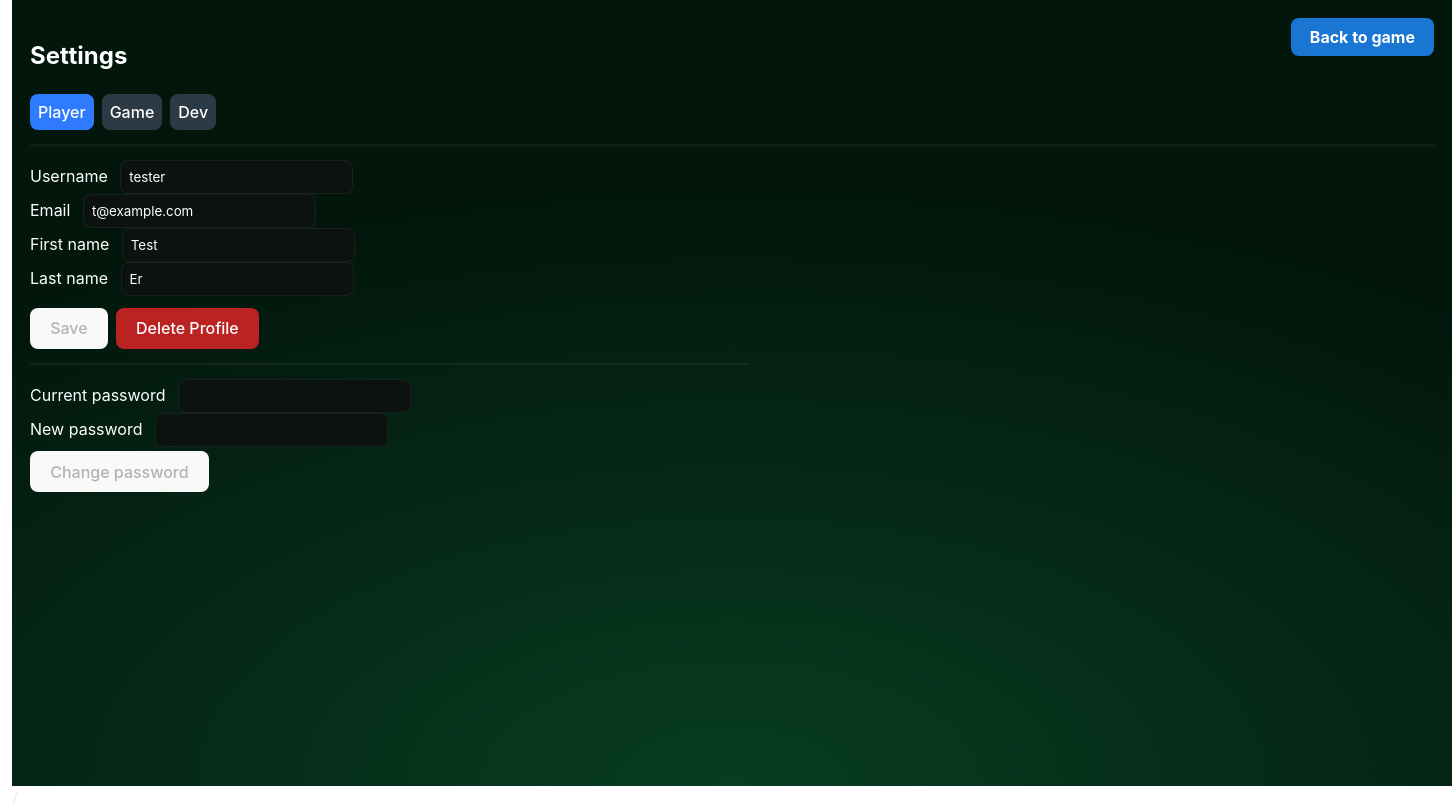
Settings › shows a failed save inline, with a fallback message
Replace the text in the field named "firstName" with "Changed" at (238, 245), box [122,228,355,262]
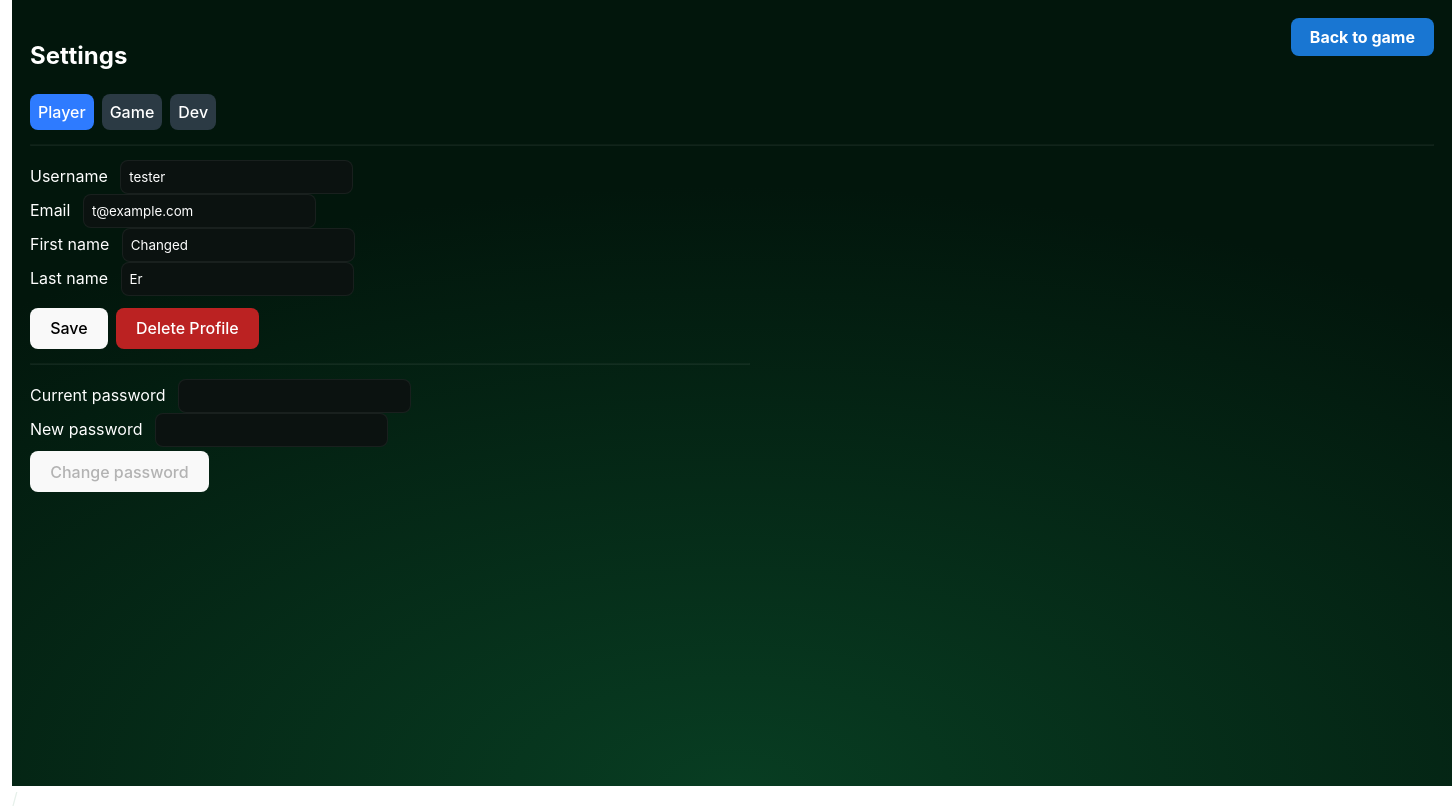
Click the button "Save" at (69, 328), box [30,308,108,349]
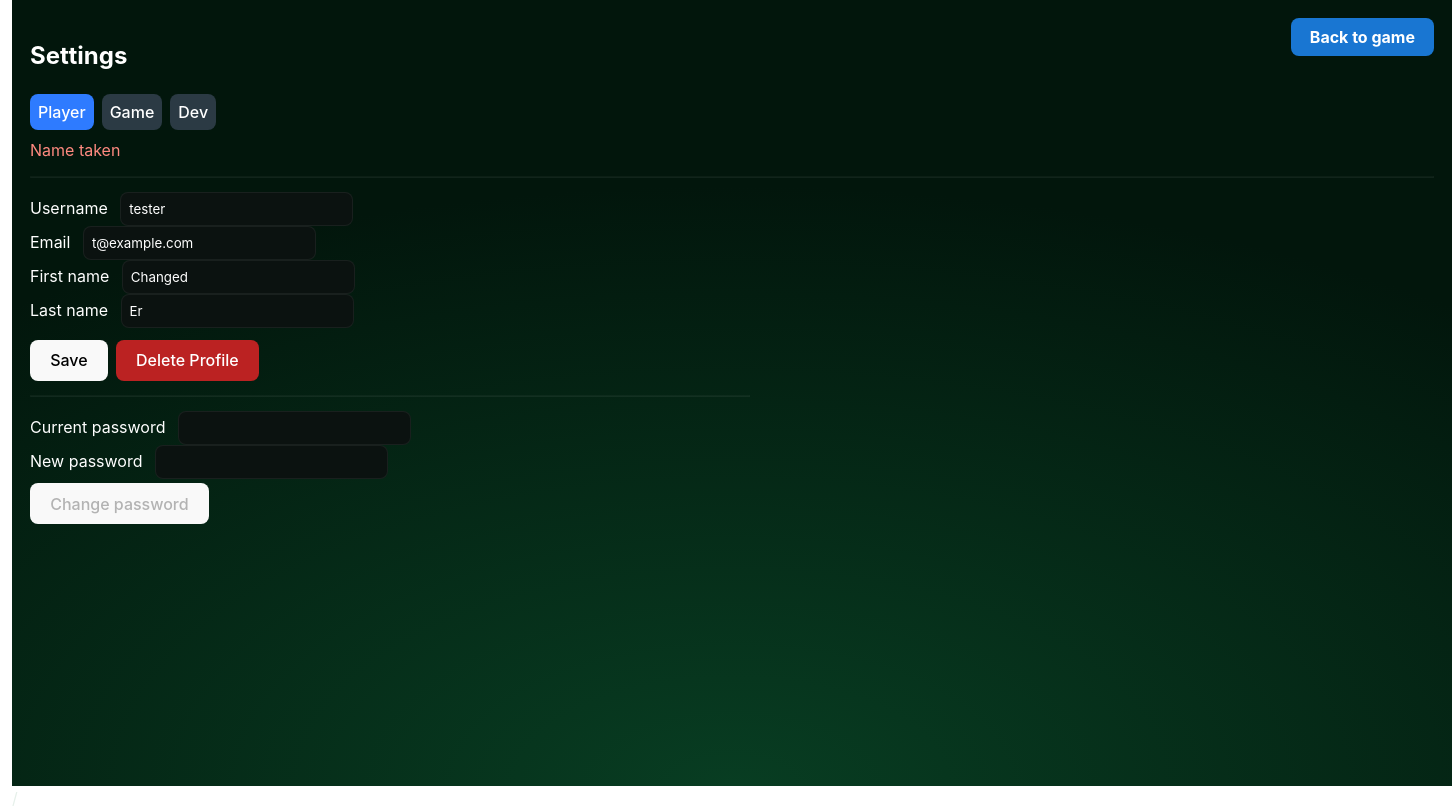
expect the message reads "Name taken": met, box [30,140,120,160]
Click the button "Save" at (69, 360), box [30,340,108,381]
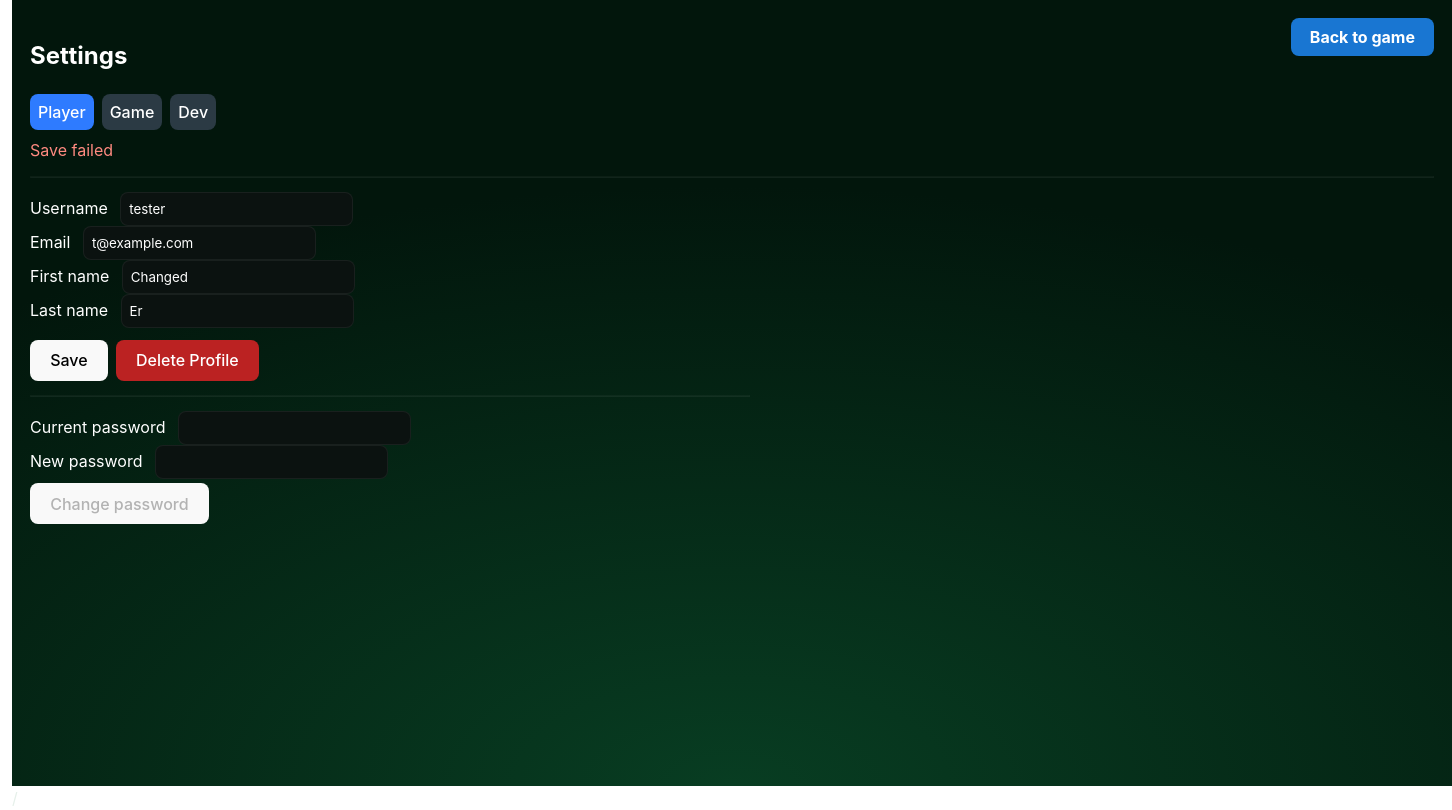
expect the message reads "Save failed": met, box [30,140,113,160]
